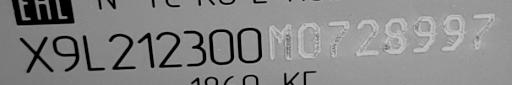letter: (20, 35, 54, 74), (106, 32, 138, 73), (294, 20, 324, 61), (380, 15, 408, 58), (352, 17, 380, 60), (265, 20, 293, 63), (206, 27, 236, 66), (154, 30, 184, 69), (440, 13, 468, 54), (410, 14, 438, 55), (236, 26, 264, 67), (52, 33, 80, 74), (470, 10, 496, 53), (325, 18, 351, 61), (80, 29, 106, 72), (182, 27, 208, 68), (136, 30, 156, 69)
